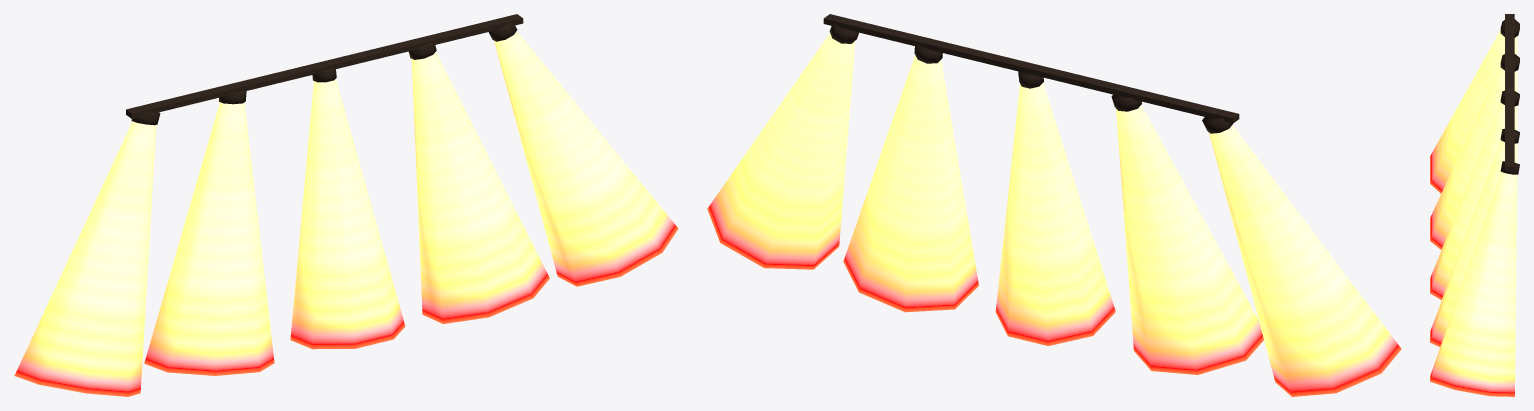
The model's file is lights.glb.
3 views of the same model, side by side, from view 1: azimuth 30°, elevation 25°; view 2: azimuth 150°, elevation 25°; view 3: azimuth 270°, elevation 25° (orthographic). The views are drawn at different scales.
Visible parts, largest first — view 1: LightsBase; view 2: LightsBase; view 3: LightsBase.
Part boxes in pixels (<box>): LightsBase: <box>14,14,678,396</box>; LightsBase: <box>707,14,1401,396</box>; LightsBase: <box>1430,14,1519,396</box>.
Bounding box in the file's own units: 12.87 × 5.01 × 1.94.
2 materials, 2 textured.
